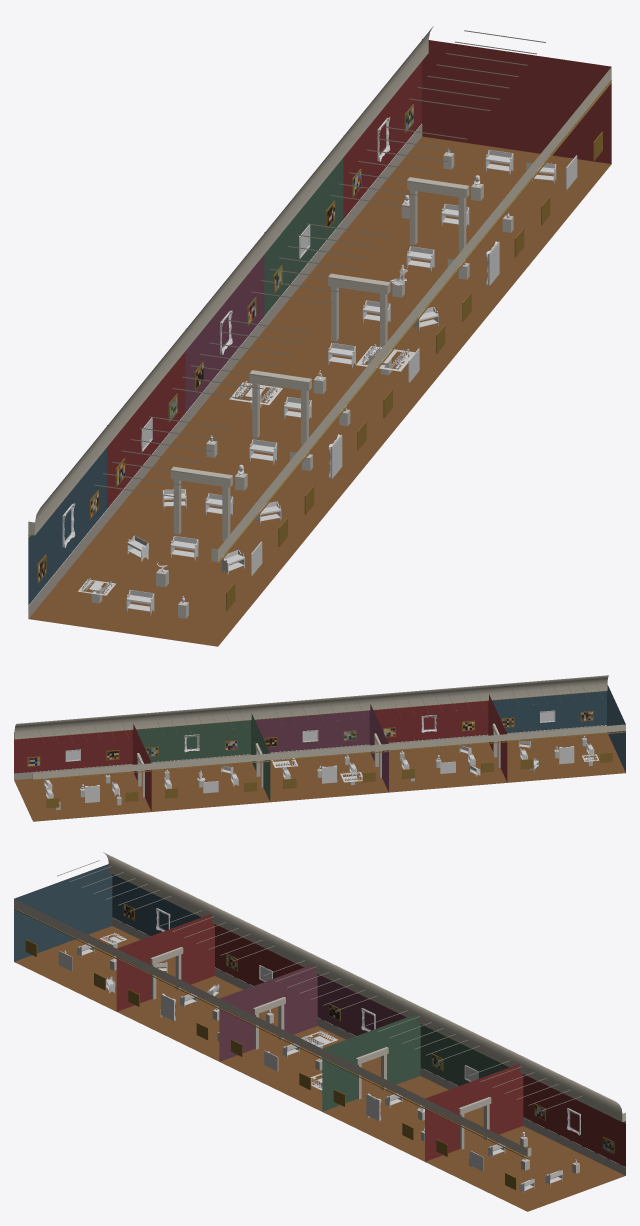
Rendered from legion_int.glb.
The picture shows the model from 3 angles, top to bottom: view 1: azimuth 30°, elevation 25°; view 2: azimuth 150°, elevation 25°; view 3: azimuth 270°, elevation 25°; orthographic projection. The views are drawn at different scales.
Parts seen in each view (by area): view 1: I_x_parquet, I_x_jacquard, I_x_plaster, I_x_marble_cream, I_p_painted_wooden_bench__0, I_x_marble_grey, I_x_gold, I_metal, I_p_fancy_picture_frame_02__0, I_d_x_plaster, I_d_paint, I_p_fancy_picture_frame_01__0 (+2 smaller); view 2: I_x_jacquard, I_x_parquet, I_x_plaster, I_x_gold, I_p_painted_wooden_bench__0, I_p_fancy_picture_frame_02__0, I_d_paint, I_x_marble_grey, I_x_marble_cream, I_p_fancy_picture_frame_01__0, I_p_fancy_picture_frame_01__1, I_d_x_plaster (+3 smaller); view 3: I_x_jacquard, I_x_parquet, I_x_plaster, I_x_gold, I_x_marble_cream, I_x_marble_grey, I_metal, I_p_painted_wooden_bench__0, I_p_fancy_picture_frame_02__0, I_p_fancy_picture_frame_01__0, I_d_paint.
Part boxes in pixels (left/top/right/bottom): I_x_parquet: left=29, top=136, right=611, bottom=646; I_x_jacquard: left=28, top=39, right=611, bottom=605; I_x_plaster: left=28, top=26, right=611, bottom=562; I_x_marble_cream: left=170, top=177, right=469, bottom=541; I_p_painted_wooden_bench__0: left=126, top=149, right=556, bottom=615; I_x_marble_grey: left=28, top=124, right=422, bottom=618; I_x_gold: left=28, top=81, right=611, bottom=611; I_metal: left=94, top=30, right=545, bottom=496; I_p_fancy_picture_frame_02__0: left=62, top=117, right=499, bottom=547; I_d_x_plaster: left=91, top=152, right=513, bottom=618; I_d_paint: left=38, top=107, right=413, bottom=581; I_p_fancy_picture_frame_01__0: left=141, top=155, right=577, bottom=575; I_x_jacquard: left=14, top=685, right=625, bottom=811; I_x_parquet: left=14, top=732, right=625, bottom=821; I_x_plaster: left=14, top=675, right=625, bottom=779; I_x_gold: left=14, top=691, right=625, bottom=808; I_p_painted_wooden_bench__0: left=44, top=740, right=594, bottom=798; I_p_fancy_picture_frame_02__0: left=84, top=715, right=574, bottom=802; I_d_paint: left=28, top=712, right=592, bottom=765; I_x_marble_grey: left=14, top=725, right=606, bottom=779; I_x_marble_cream: left=137, top=723, right=500, bottom=797; I_p_fancy_picture_frame_01__0: left=65, top=710, right=555, bottom=793; I_p_fancy_picture_frame_01__1: left=66, top=711, right=554, bottom=760; I_d_x_plaster: left=55, top=738, right=592, bottom=810; I_x_jacquard: left=14, top=864, right=625, bottom=1166; I_x_parquet: left=14, top=926, right=625, bottom=1211; I_x_plaster: left=14, top=852, right=625, bottom=1156; I_x_gold: left=14, top=903, right=625, bottom=1190; I_x_marble_cream: left=150, top=947, right=491, bottom=1149; I_x_marble_grey: left=112, top=917, right=625, bottom=1175; I_metal: left=57, top=860, right=582, bottom=1111; I_p_painted_wooden_bench__0: left=77, top=943, right=562, bottom=1193; I_p_fancy_picture_frame_02__0: left=156, top=908, right=580, bottom=1135; I_p_fancy_picture_frame_01__0: left=58, top=950, right=483, bottom=1171; I_d_paint: left=124, top=905, right=613, bottom=1152.
Bounding box in the file's own units: 72.75 × 9.9 × 65.78.
